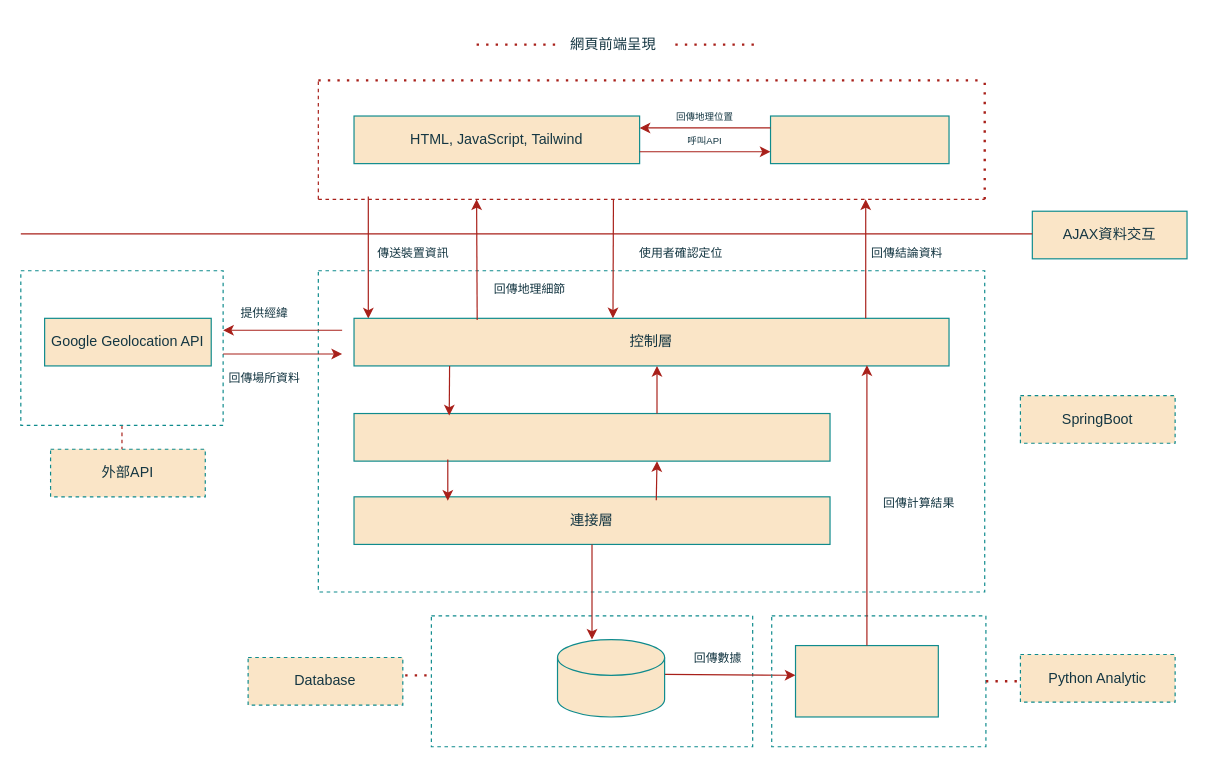
The diagram is 1208 pixels wide and 768 high, and some of its shapes have lost their labels. Here are the shapes that lost their labels. From the top down, the centre of each, then its label:
At point (859, 139): "Browser APIs".
At point (591, 436): "服務層".
At point (610, 677): "MySQL".
At point (866, 680): "數據計算層".
